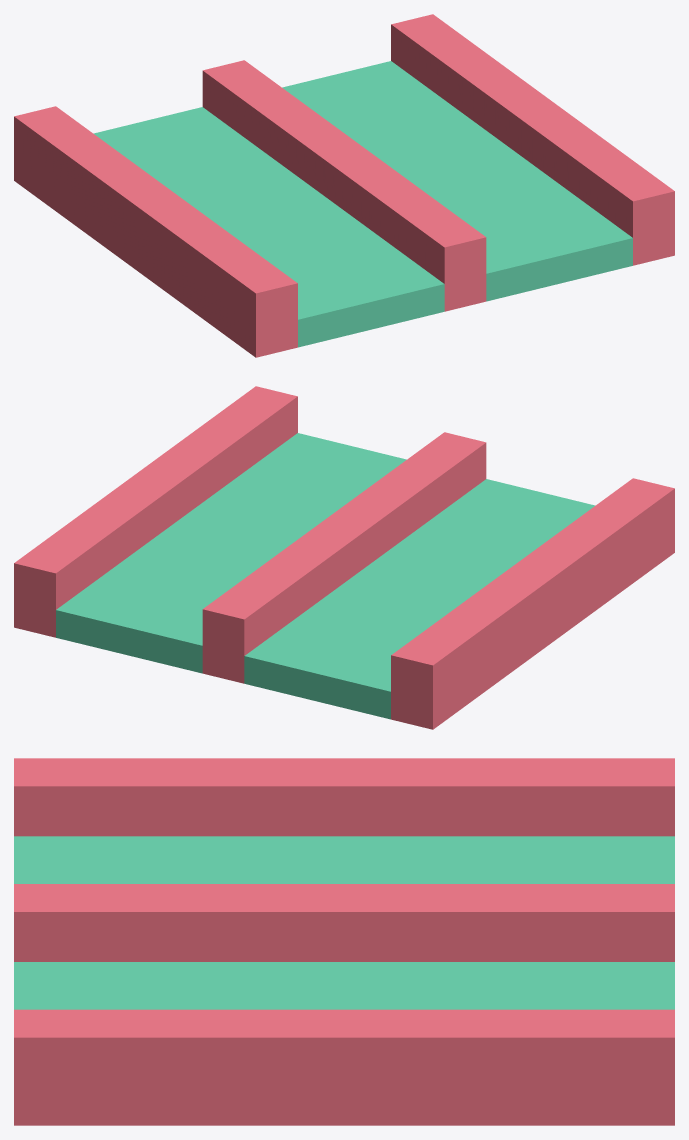
File: split.glb
3 views of the same model, one above another, from view 1: azimuth 30°, elevation 25°; view 2: azimuth 150°, elevation 25°; view 3: azimuth 270°, elevation 25° (orthographic). The views are drawn at different scales.
Visible parts, largest first — view 1: split; view 2: split; view 3: split.
Part boxes in pixels (<box>): split: <box>14,14,674,357</box>; split: <box>14,386,674,729</box>; split: <box>14,758,674,1125</box>.
Bounding box in the file's own units: 0.9999 × 0.1467 × 0.9999.
